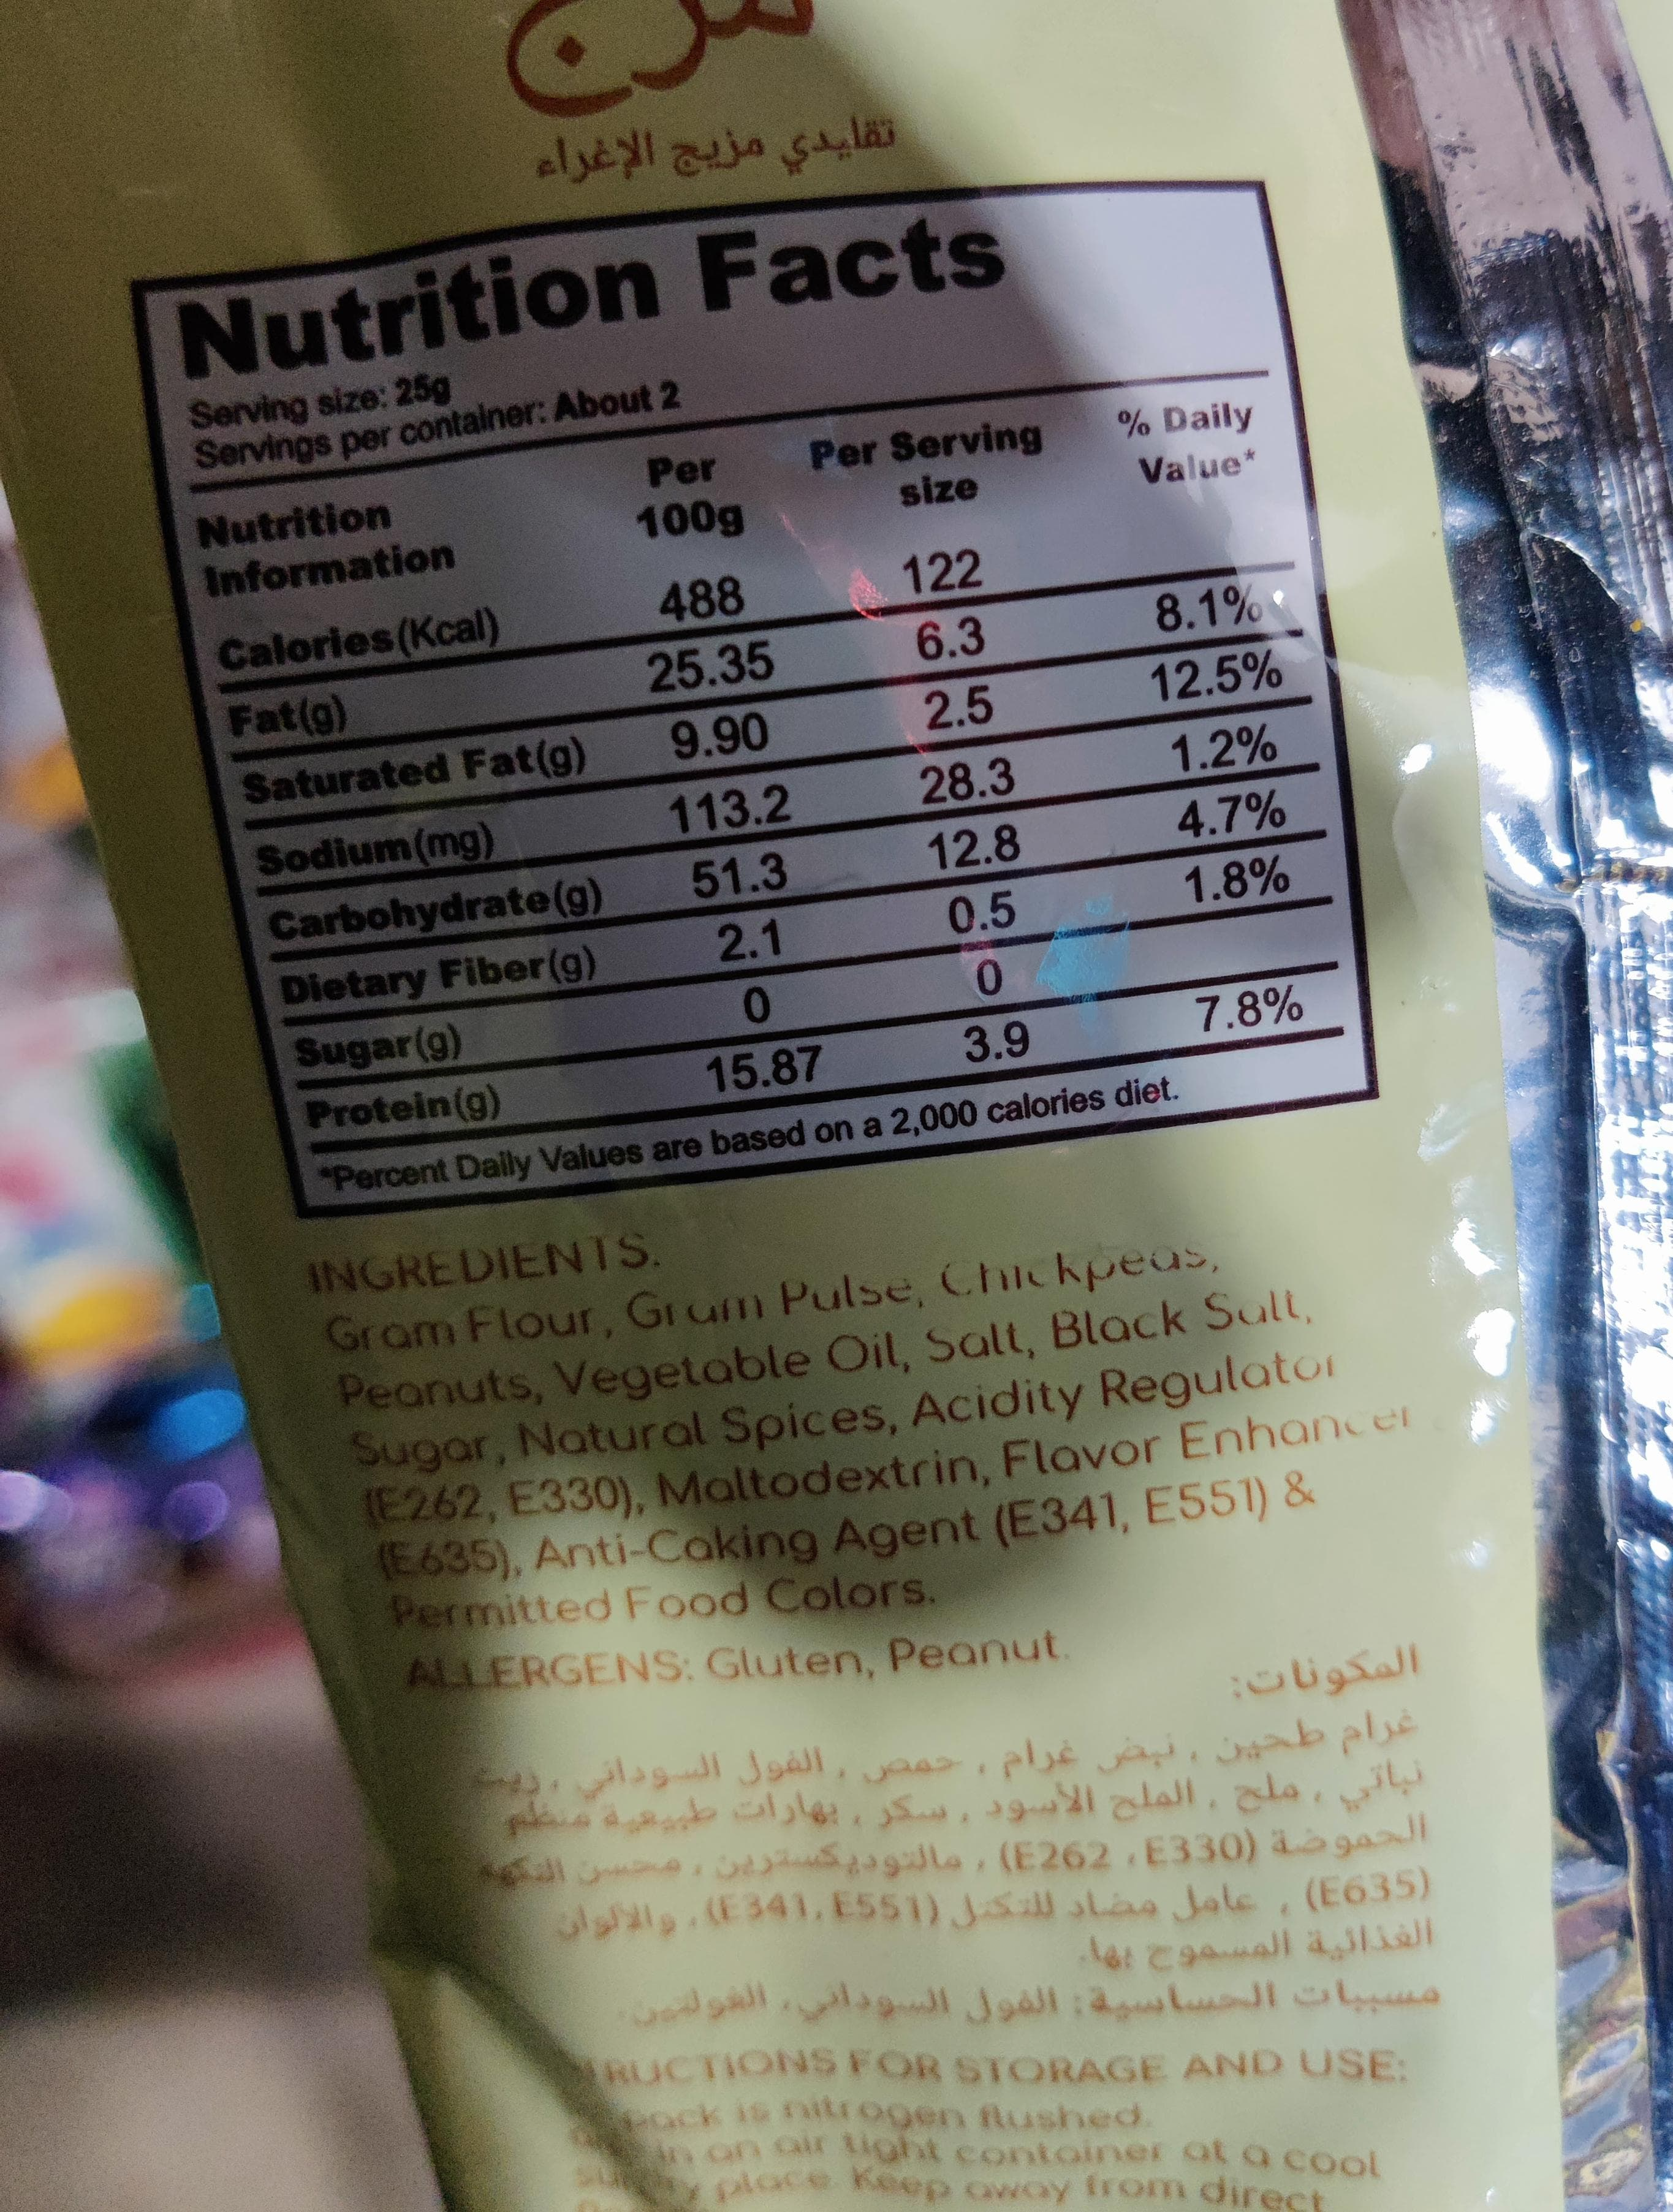table: (121, 170, 1383, 1226)
